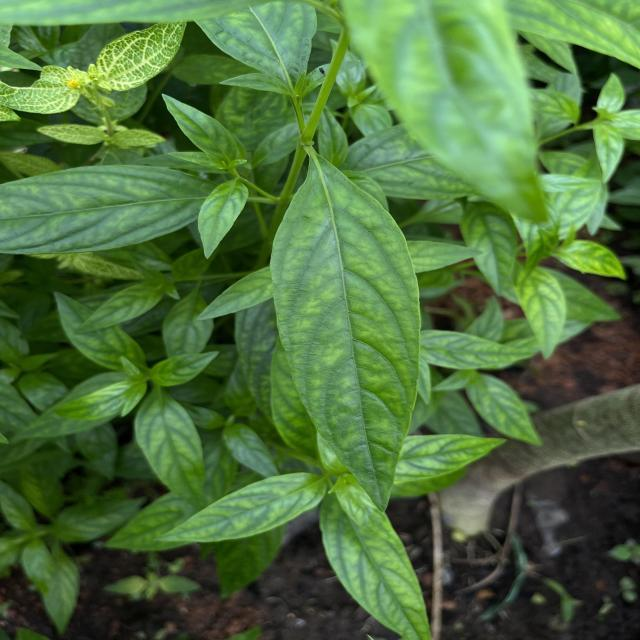Andrographis paniculata: (269, 148, 421, 516), (0, 160, 199, 260), (316, 497, 434, 640), (149, 468, 327, 546), (136, 390, 208, 505), (7, 376, 130, 439), (50, 289, 143, 368), (160, 86, 244, 160), (464, 372, 544, 448), (420, 328, 534, 373), (74, 279, 163, 336), (194, 178, 249, 262), (36, 544, 81, 636), (522, 272, 564, 360), (149, 348, 222, 384)
